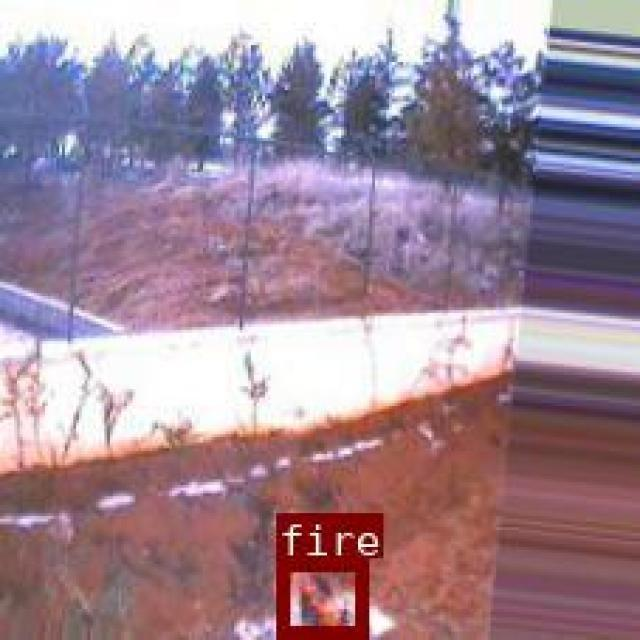fire: (276, 558, 364, 634)
